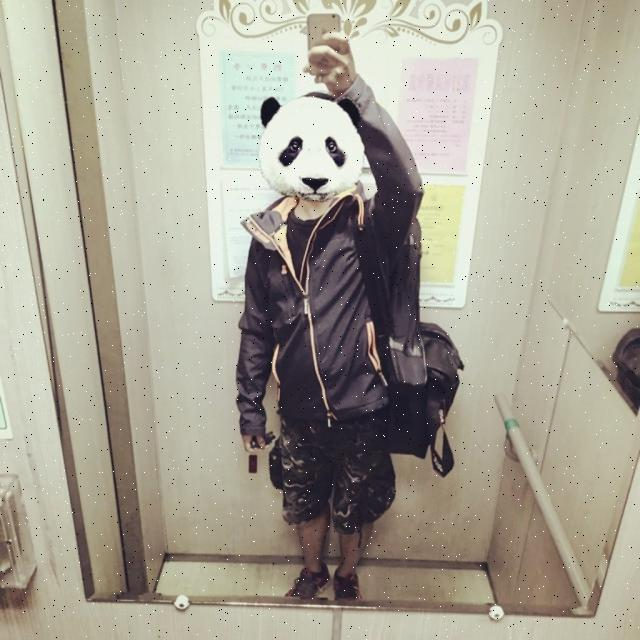panda: (258, 93, 367, 205)
